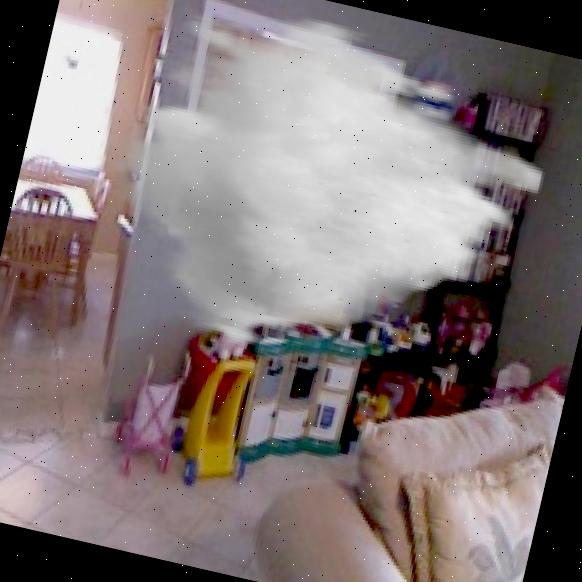smoke: (78, 0, 567, 412)
